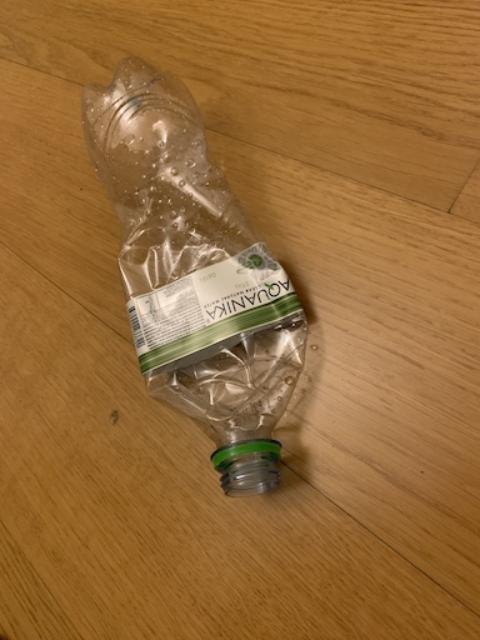plastic: (81, 56, 305, 494)
